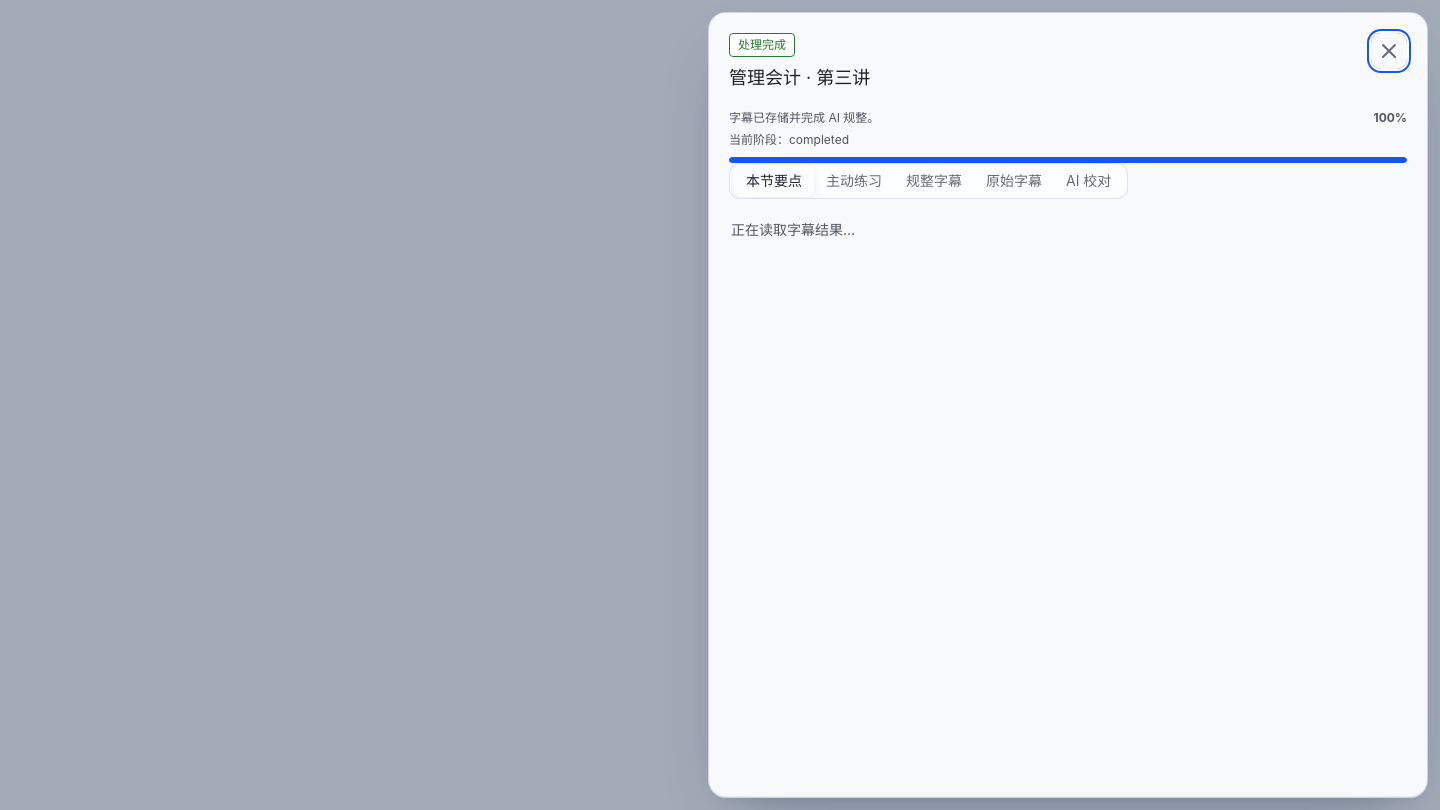
TranscriptDetailDrawer Phase1 › degrades malformed artifact data into a safe empty state
Press the mouse on the tab "AI 校对" at (1089, 181), box [1054,165,1123,197]
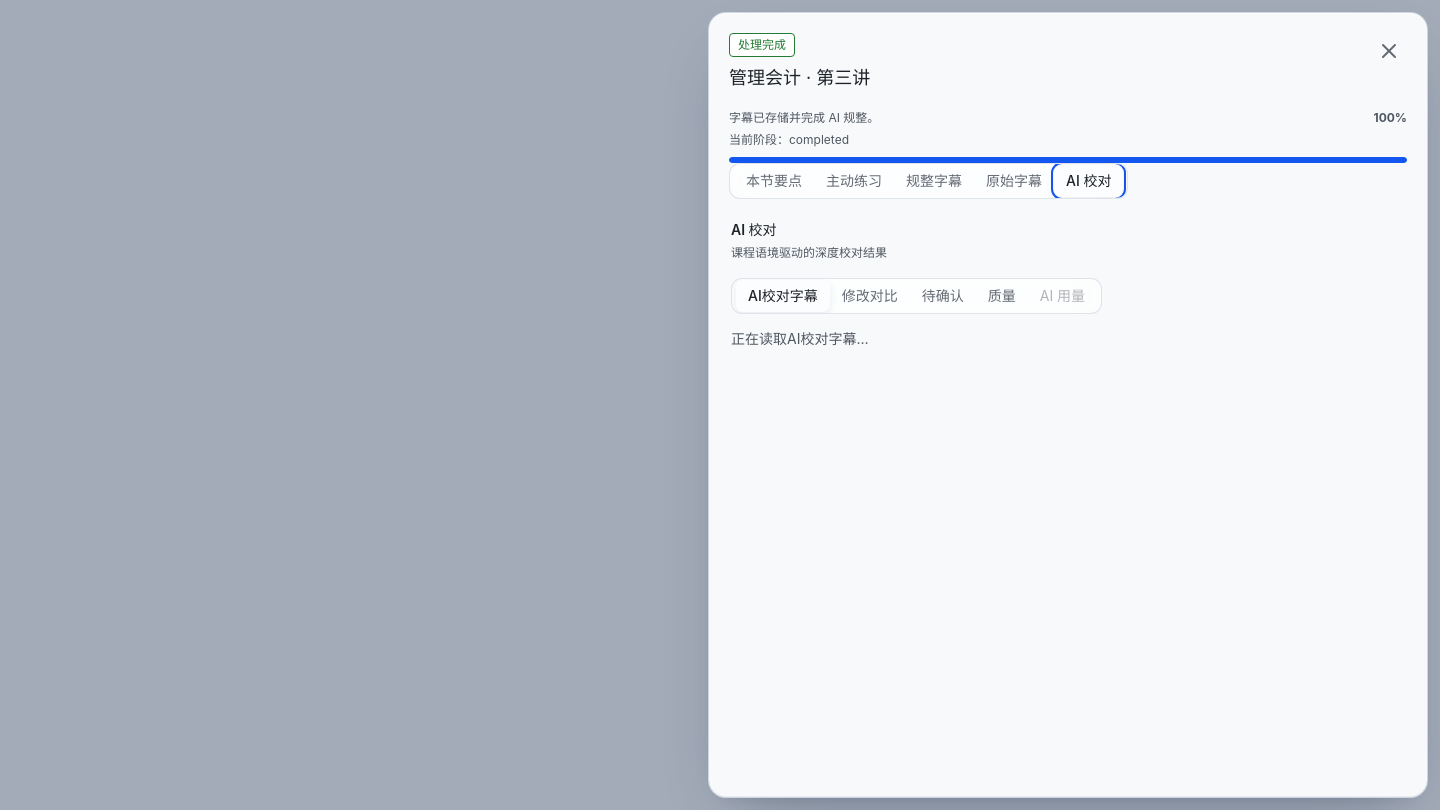
Press the mouse on the tab "修改对比" at (870, 296), box [830,280,910,312]
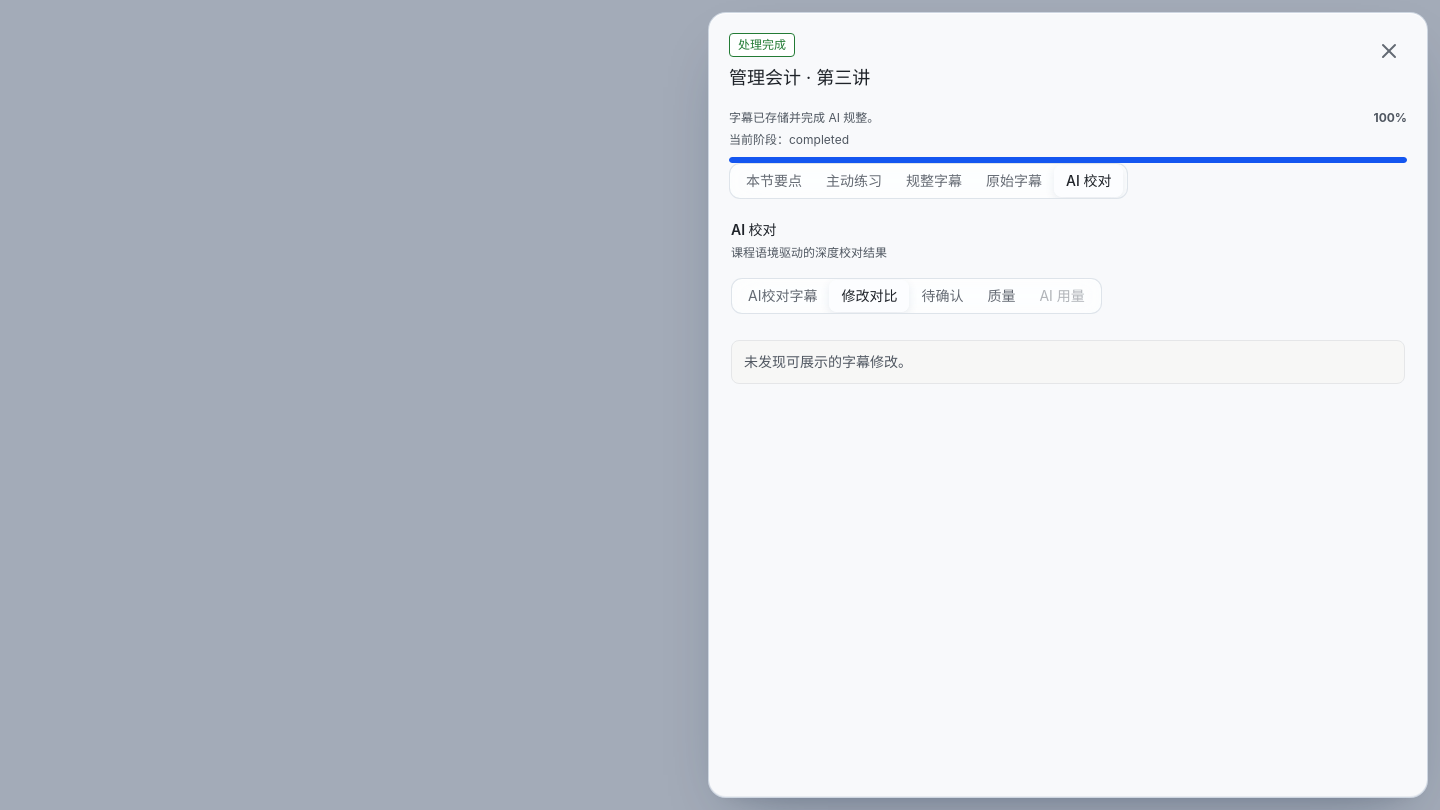
Result: the text "未发现可展示的字幕修改。" is shown at [731,340,1405,384]
